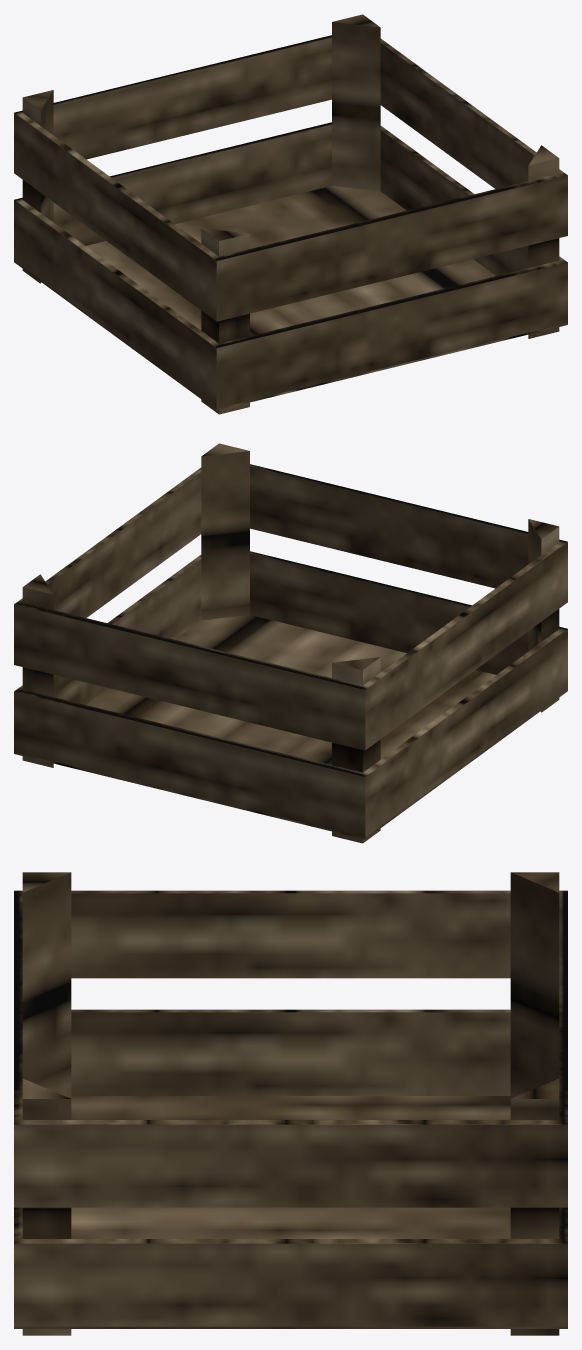
Rendered from wooden_box_small_1.fbx.
3 views of the same model, one above another, from view 1: azimuth 30°, elevation 25°; view 2: azimuth 150°, elevation 25°; view 3: azimuth 270°, elevation 25° (orthographic). The views are drawn at different scales.
Visible parts, largest first — view 1: Side, Bottom, Support.008, Support.006, Support.005, Support.007; view 2: Side, Bottom, Support.007, Support.005, Support.006, Support.008; view 3: Side, Bottom, Support.005, Support.006, Support.007, Support.008.
Boxes of the visible parts, left/top/right/bottom form: Side: left=14, top=35, right=567, bottom=408; Bottom: left=14, top=186, right=567, bottom=410; Support.008: left=332, top=14, right=380, bottom=191; Support.006: left=201, top=228, right=249, bottom=414; Support.005: left=22, top=90, right=53, bottom=283; Support.007: left=528, top=145, right=559, bottom=338; Side: left=14, top=464, right=567, bottom=837; Bottom: left=14, top=615, right=567, bottom=839; Support.007: left=201, top=443, right=249, bottom=620; Support.005: left=332, top=657, right=380, bottom=843; Support.006: left=528, top=519, right=559, bottom=712; Support.008: left=22, top=574, right=53, bottom=767; Side: left=14, top=890, right=567, bottom=1326; Bottom: left=14, top=1096, right=567, bottom=1328; Support.005: left=510, top=872, right=559, bottom=1097; Support.006: left=22, top=872, right=71, bottom=1097; Support.007: left=22, top=1078, right=71, bottom=1335; Support.008: left=510, top=1078, right=559, bottom=1335.
Size of the model in its own units: 125 by 58.95 by 125.
